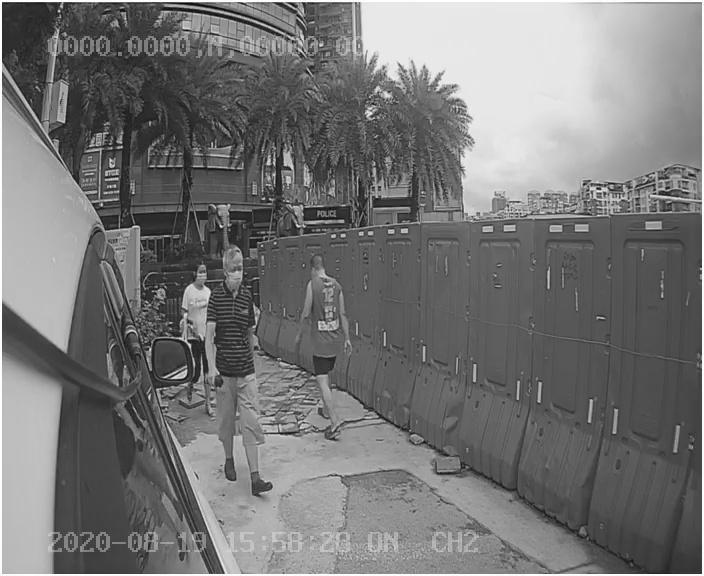person: (196, 240, 285, 501), (287, 251, 373, 446)
